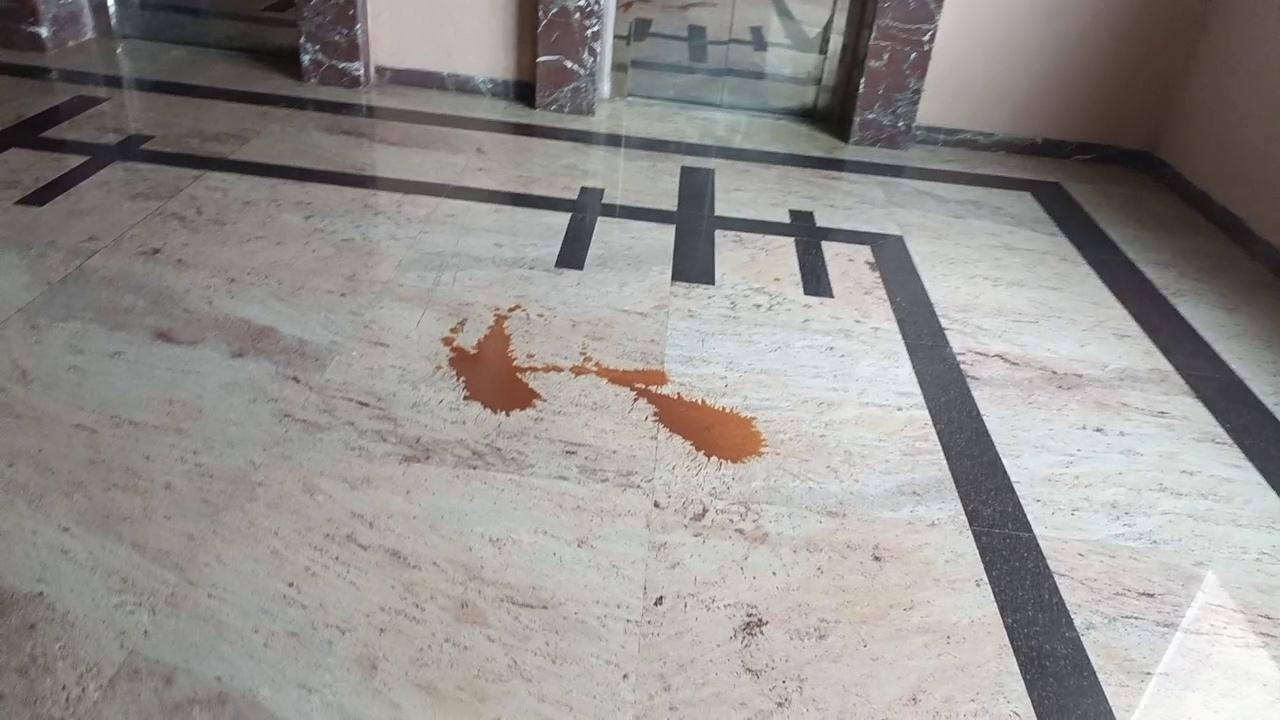dirty_floor: (440, 302, 770, 471)
